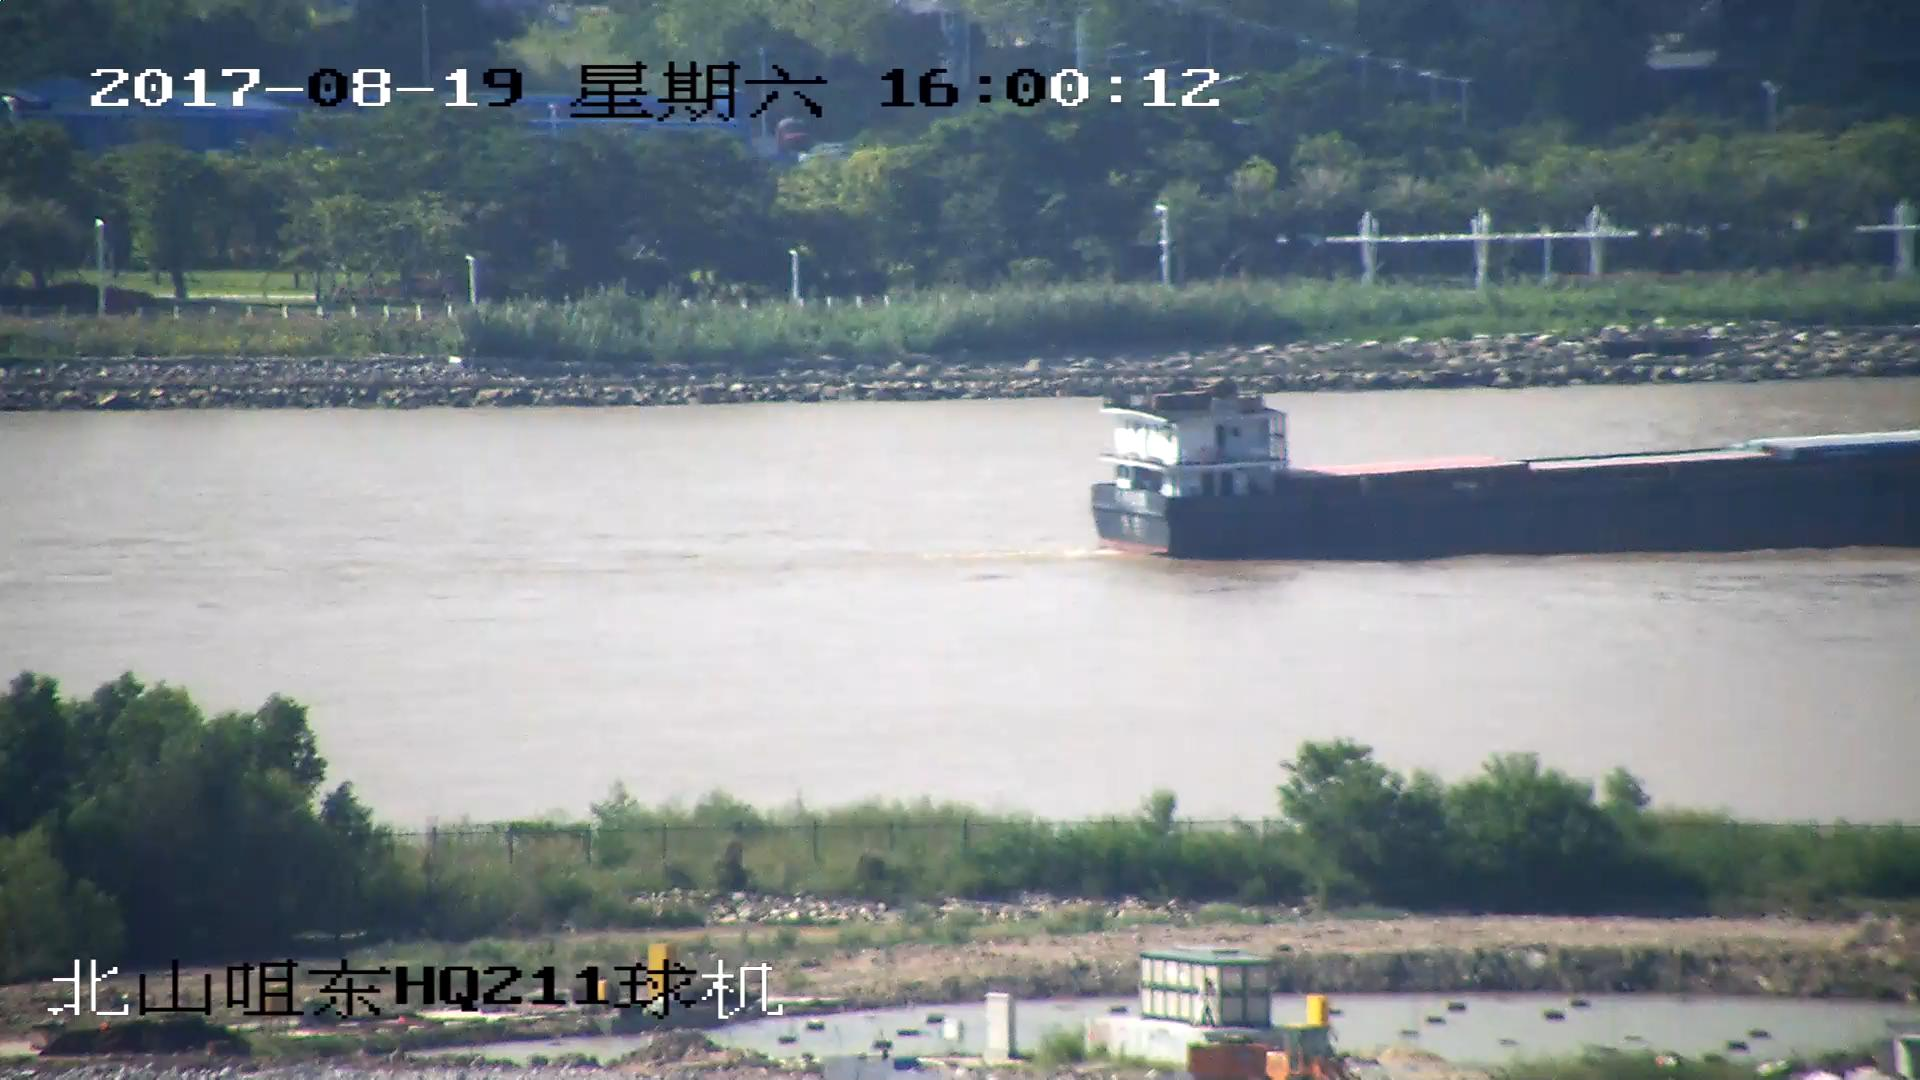general cargo ship: (1089, 380, 1920, 560)
